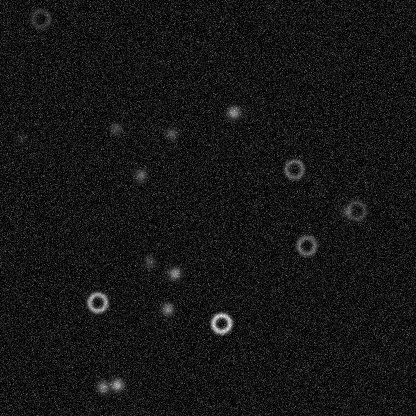Ring: (294, 233, 318, 257), (85, 290, 109, 314), (28, 6, 52, 30), (281, 157, 305, 181), (209, 311, 233, 335), (344, 198, 368, 222)
Spot: (337, 203, 353, 219), (225, 104, 241, 120), (94, 379, 110, 395), (141, 254, 157, 270), (163, 125, 179, 141), (108, 376, 124, 392), (12, 130, 28, 146), (166, 265, 182, 281), (107, 120, 123, 136), (159, 301, 175, 317), (132, 167, 148, 183)
